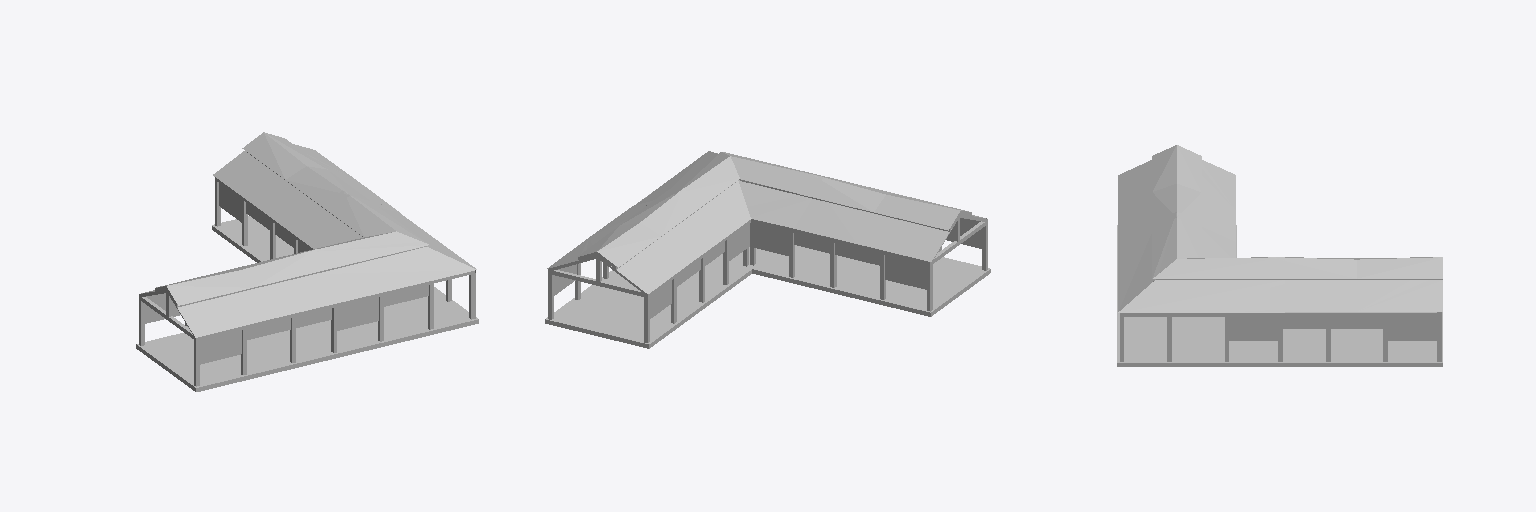
Rendered from ecke.obj.
3 views of the same model, side by side, from view 1: azimuth 30°, elevation 25°; view 2: azimuth 150°, elevation 25°; view 3: azimuth 270°, elevation 25° (orthographic).
Visible parts, largest first — view 1: harbor_shed_01_lod0.002, ecke.002, harbor_shed_01_lod0; view 2: harbor_shed_01_lod0.002, harbor_shed_01_lod0, ecke.002; view 3: ecke.002, harbor_shed_01_lod0, harbor_shed_01_lod0.002.
Boxes of the visible parts, box(x1,y1,x2,y2) form: harbor_shed_01_lod0.002: box(136, 249, 344, 391); ecke.002: box(294, 190, 478, 358); harbor_shed_01_lod0: box(212, 132, 399, 262); harbor_shed_01_lod0.002: box(782, 174, 990, 316); harbor_shed_01_lod0: box(545, 188, 735, 348); ecke.002: box(634, 151, 828, 289); ecke.002: box(1117, 212, 1284, 366); harbor_shed_01_lod0: box(1270, 257, 1442, 366); harbor_shed_01_lod0.002: box(1117, 145, 1236, 291).
Bounding box in the file's own units: 3.02 × 0.865 × 3.02.